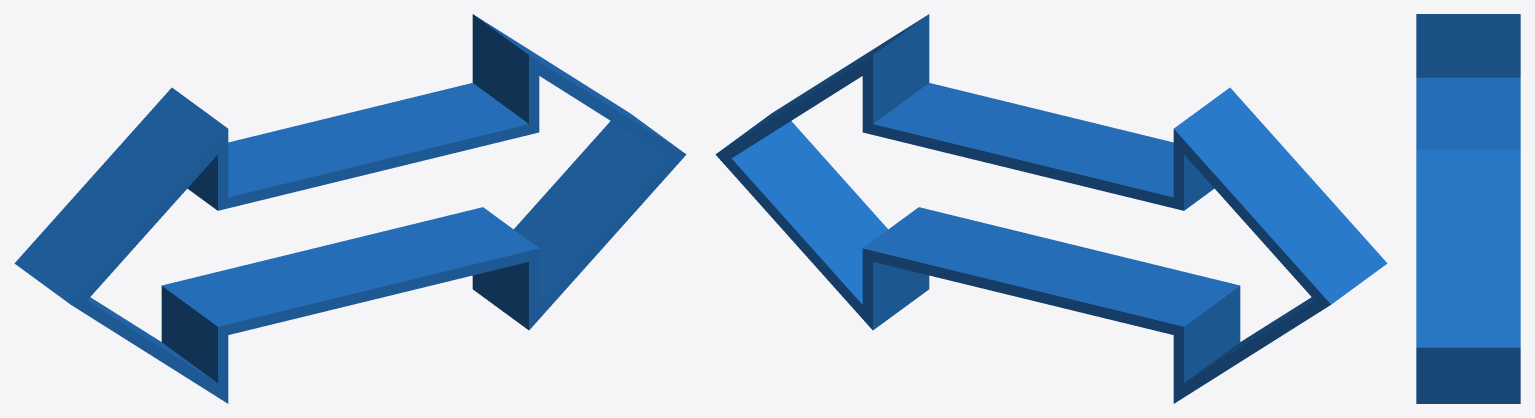
Rendered from Arrow_16.obj.
3 renders of one model, left to right at view 1: azimuth 30°, elevation 25°; view 2: azimuth 150°, elevation 25°; view 3: azimuth 270°, elevation 25°, orthographic. The views are drawn at different scales.
Parts seen in each view (by area): view 1: Arrow_16; view 2: Arrow_16; view 3: Arrow_16.
Part boxes in pixels (left/top/right/bottom): Arrow_16: left=14, top=14, right=686, bottom=403; Arrow_16: left=715, top=14, right=1387, bottom=403; Arrow_16: left=1416, top=14, right=1520, bottom=403.
Bounding box in the file's own units: 4.68 × 2 × 0.7423.
